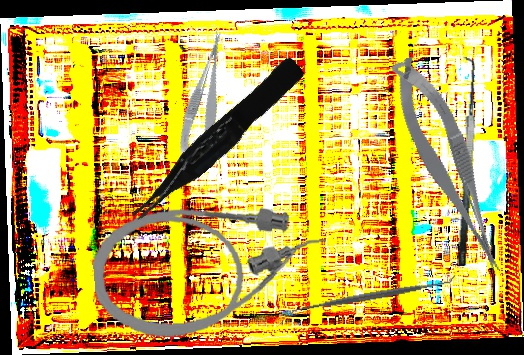Cannula: (88, 196, 334, 344)
Micro Scissor: (384, 48, 510, 284), (165, 28, 244, 185)
Spatula Surgical: (439, 56, 485, 267), (288, 271, 458, 320)
Tissue Forceps: (118, 55, 313, 226)
